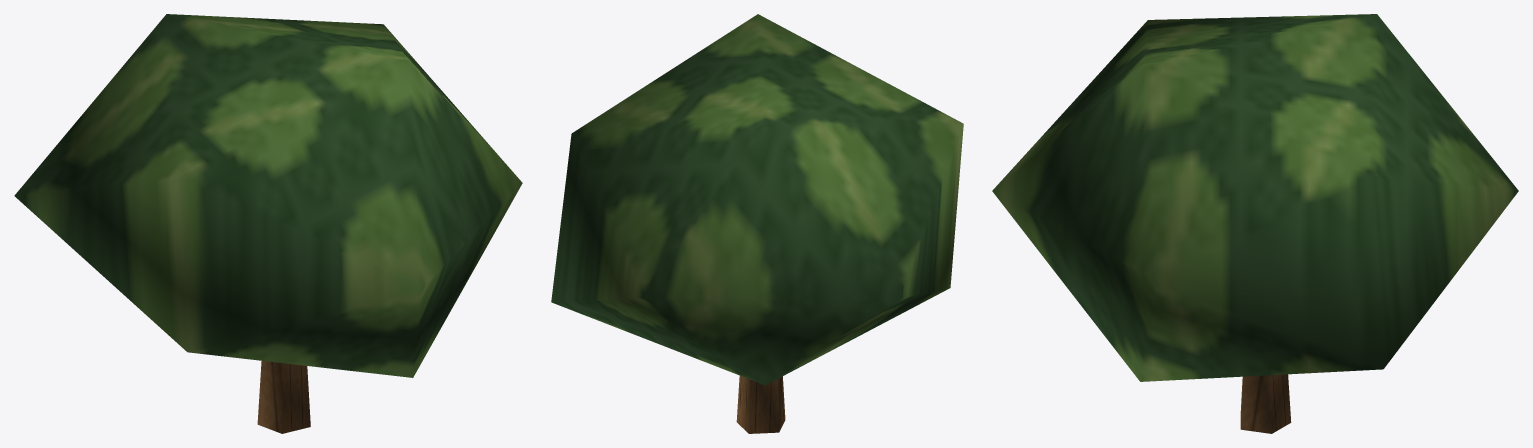
The model's file is shrub-lod1.glb.
3 renders of one model, left to right at view 1: azimuth 30°, elevation 25°; view 2: azimuth 150°, elevation 25°; view 3: azimuth 270°, elevation 25°, orthographic. The views are drawn at different scales.
Bounding box in the file's own units: 0.3721 × 0.3501 × 0.4327.
Materials: 1 (1 with a texture image).
